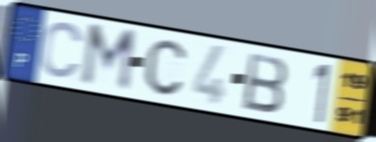1: (312, 62, 332, 126)
4: (191, 42, 230, 110)
B: (241, 50, 290, 116)
C: (38, 20, 86, 81), (143, 37, 188, 98)
M: (78, 21, 139, 95)
